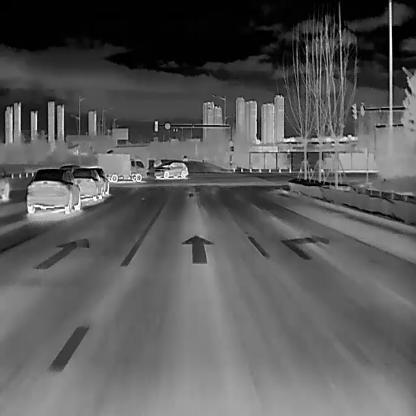car: (26, 167, 80, 213), (96, 151, 146, 182), (72, 167, 102, 201), (107, 142, 150, 165), (153, 159, 188, 179), (182, 154, 188, 161)
